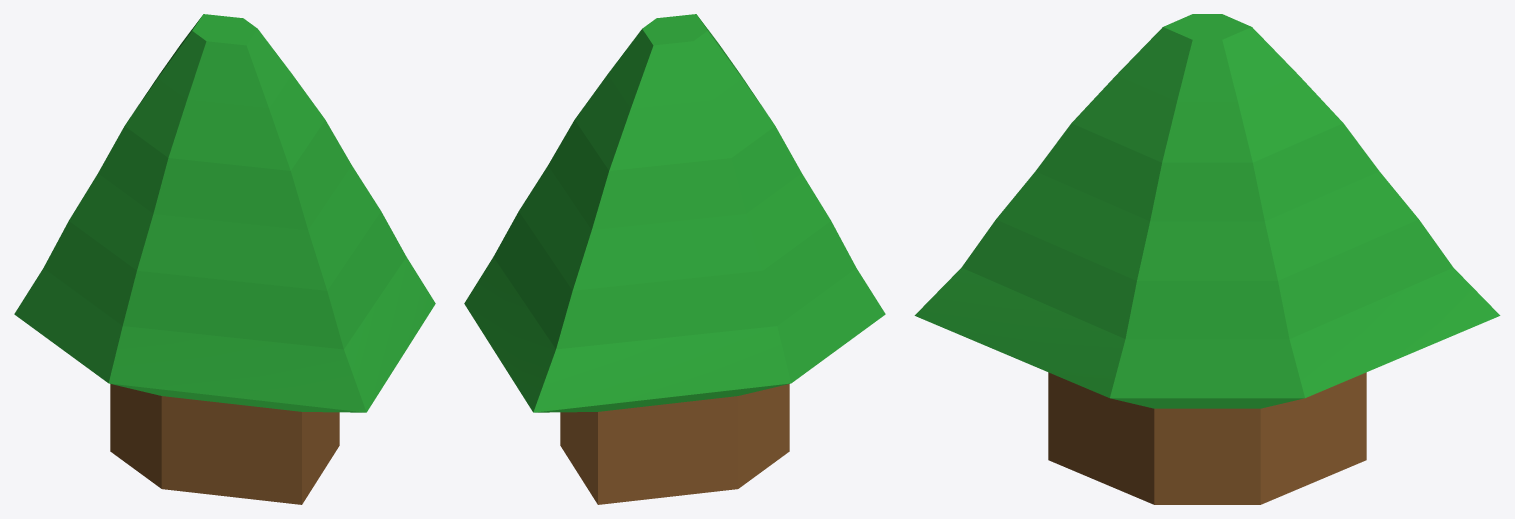
The model's file is Tree.obj.
The picture shows the model from 3 angles, left to right: view 1: azimuth 30°, elevation 25°; view 2: azimuth 150°, elevation 25°; view 3: azimuth 270°, elevation 25°; orthographic projection. The views are drawn at different scales.
Visible parts, largest first — view 1: Tree; view 2: Tree; view 3: Tree.
Part boxes in pixels (x1=…): Tree: x1=14, y1=14, x2=435, y2=504; Tree: x1=464, y1=14, x2=885, y2=504; Tree: x1=914, y1=14, x2=1500, y2=504.
Size of the model in its own units: 3.68 by 4.5 by 5.52.
